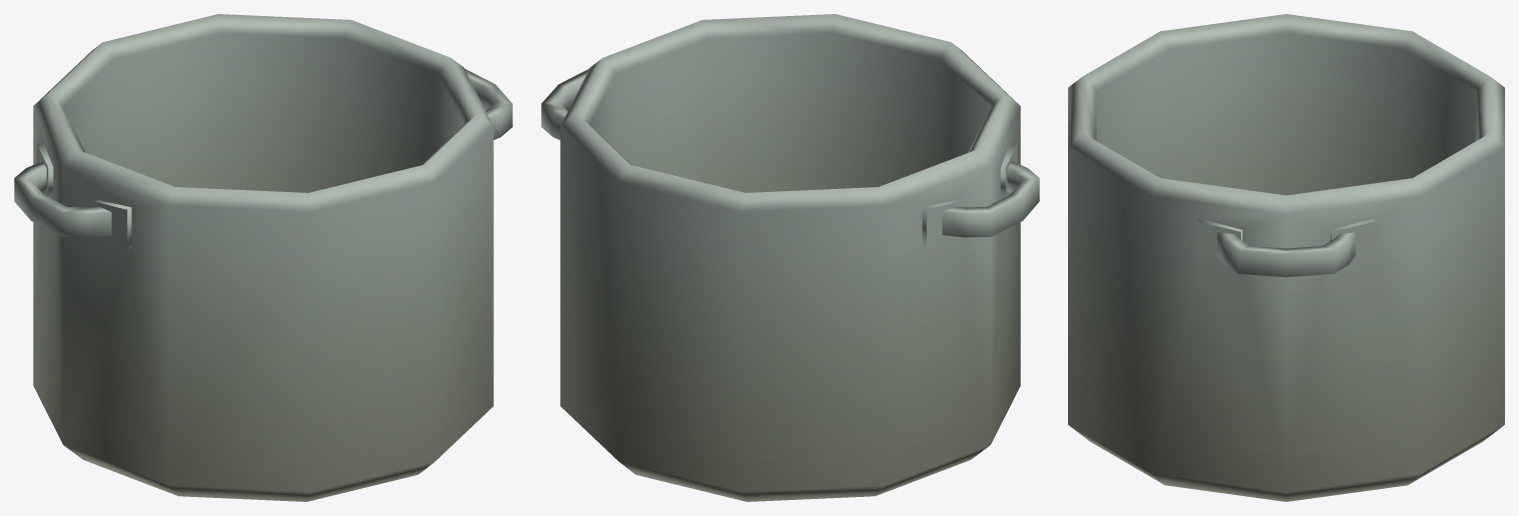
The model's file is SM_Pan_Big_02.fbx.
The picture shows the model from 3 angles, left to right: view 1: azimuth 30°, elevation 25°; view 2: azimuth 150°, elevation 25°; view 3: azimuth 270°, elevation 25°; orthographic projection.
Parts seen in each view (by area): view 1: SM_Pan_Big_02; view 2: SM_Pan_Big_02; view 3: SM_Pan_Big_02.
Boxes of the visible parts, left/top/right/bottom form: SM_Pan_Big_02: left=14, top=14, right=512, bottom=501; SM_Pan_Big_02: left=541, top=14, right=1039, bottom=501; SM_Pan_Big_02: left=1068, top=14, right=1504, bottom=501.
Size of the model in its own units: 36.92 by 23.73 by 30.3.
